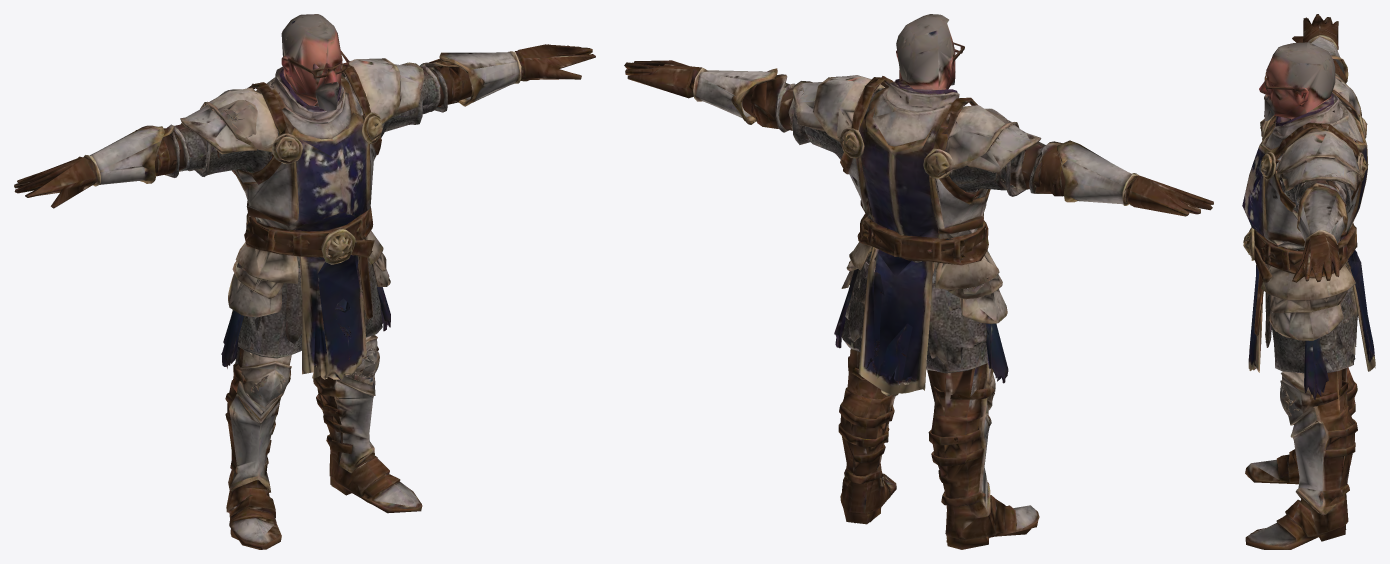
File: dadKnightFinal.glb
3 views of the same model, side by side, from view 1: azimuth 30°, elevation 25°; view 2: azimuth 150°, elevation 25°; view 3: azimuth 270°, elevation 25° (orthographic). The views are drawn at different scales.
Parts seen in each view (by area): view 1: world; view 2: world; view 3: world.
Boxes of the visible parts, x1=… form: world: x1=14, y1=14, x2=595, y2=549; world: x1=624, y1=14, x2=1213, y2=549; world: x1=1242, y1=14, x2=1375, y2=549.
Size of the model in its own units: 0.9936 by 0.8063 by 0.2105.
Materials: 1 (1 with a texture image).
